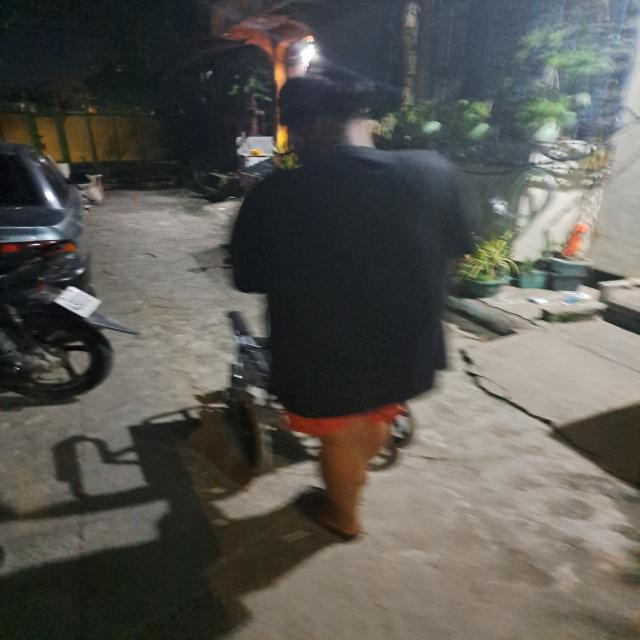wheelchairs: (221, 309, 417, 474)
